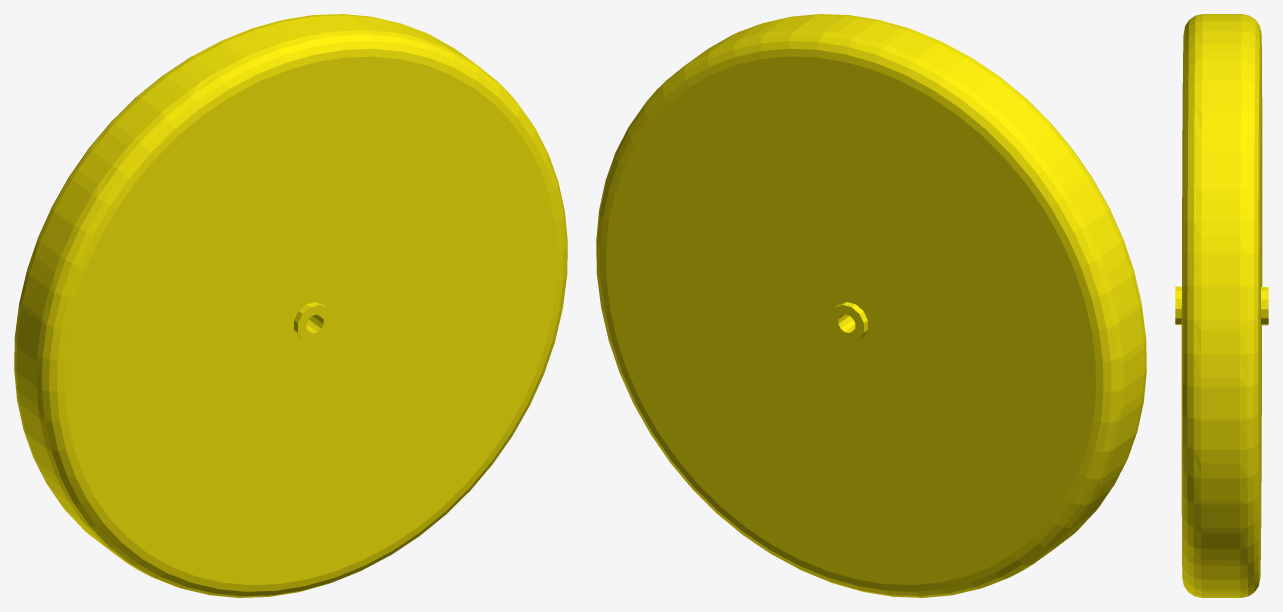
File: Castor_Link.dae
3 views of the same model, side by side, from view 1: azimuth 30°, elevation 25°; view 2: azimuth 150°, elevation 25°; view 3: azimuth 270°, elevation 25° (orthographic). The views are drawn at different scales.
Parts seen in each view (by area): view 1: Castor Link; view 2: Castor Link; view 3: Castor Link.
Part boxes in pixels (x1=…): Castor Link: x1=14, y1=14, x2=567, y2=597; Castor Link: x1=596, y1=14, x2=1146, y2=597; Castor Link: x1=1175, y1=14, x2=1268, y2=597.
Bounding box in the file's own units: 0.15 × 0.024 × 0.15.
